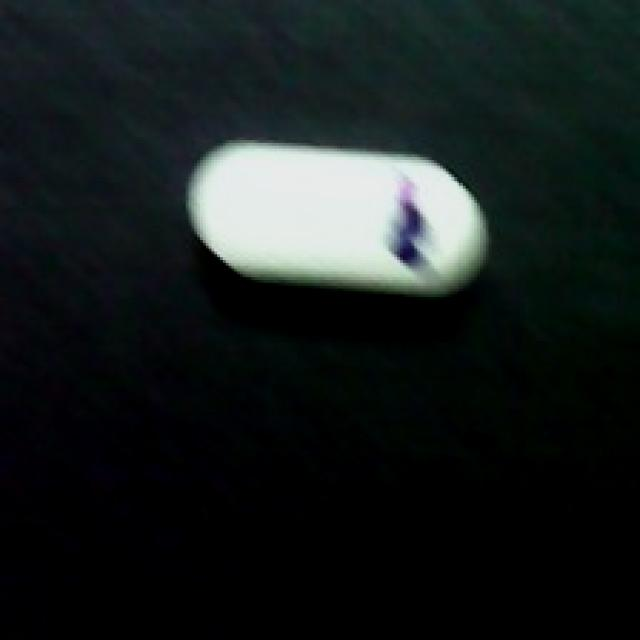defected: (183, 134, 491, 306)
